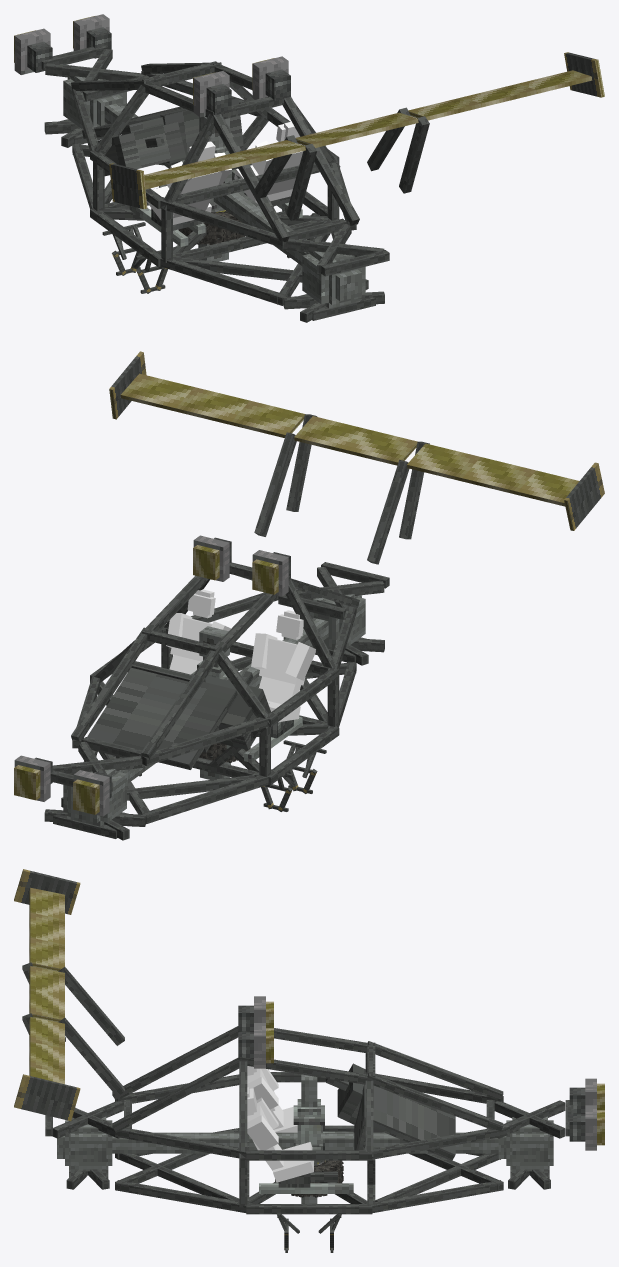
Rendered from m6-owner-full-rig-r2.glb.
3 views of the same model, one above another, from view 1: azimuth 30°, elevation 25°; view 2: azimuth 150°, elevation 25°; view 3: azimuth 270°, elevation 25° (orthographic). The views are drawn at different scales.
Parts seen in each view (by area): view 1: JV_R2_Real_owner_chassis, JV_R2_Real_owner_fl_wheel, JV_R2_Real_owner_rl_chassis_bracket_socket_chassismount, JV_R2_Real_owner_rr_chassis_bracket_socket_chassismount, JV_R2_Real_owner_fl_coilover_upper; view 2: JV_R2_Real_owner_chassis, JV_R2_Real_owner_rr_chassis_bracket_socket_chassismount, JV_R2_Real_owner_fl_coilover_upper; view 3: JV_R2_Real_owner_chassis, JV_R2_Real_owner_fl_coilover_upper, JV_R2_Real_owner_fl_wheel.
Boxes of the visible parts, x1,y1,x2,y2 form: JV_R2_Real_owner_chassis: [14, 14, 604, 322]; JV_R2_Real_owner_fl_wheel: [178, 210, 244, 244]; JV_R2_Real_owner_rl_chassis_bracket_socket_chassismount: [102, 222, 145, 275]; JV_R2_Real_owner_rr_chassis_bracket_socket_chassismount: [134, 246, 175, 293]; JV_R2_Real_owner_fl_coilover_upper: [199, 116, 231, 209]; JV_R2_Real_owner_chassis: [14, 351, 604, 840]; JV_R2_Real_owner_rr_chassis_bracket_socket_chassismount: [283, 740, 326, 793]; JV_R2_Real_owner_fl_coilover_upper: [191, 626, 237, 680]; JV_R2_Real_owner_chassis: [14, 869, 604, 1214]; JV_R2_Real_owner_fl_coilover_upper: [293, 1074, 324, 1144]; JV_R2_Real_owner_fl_wheel: [291, 1160, 343, 1197].
Bounding box in the file's own units: 7.81 × 4.24 × 9.37.
5 materials, 3 textured.
